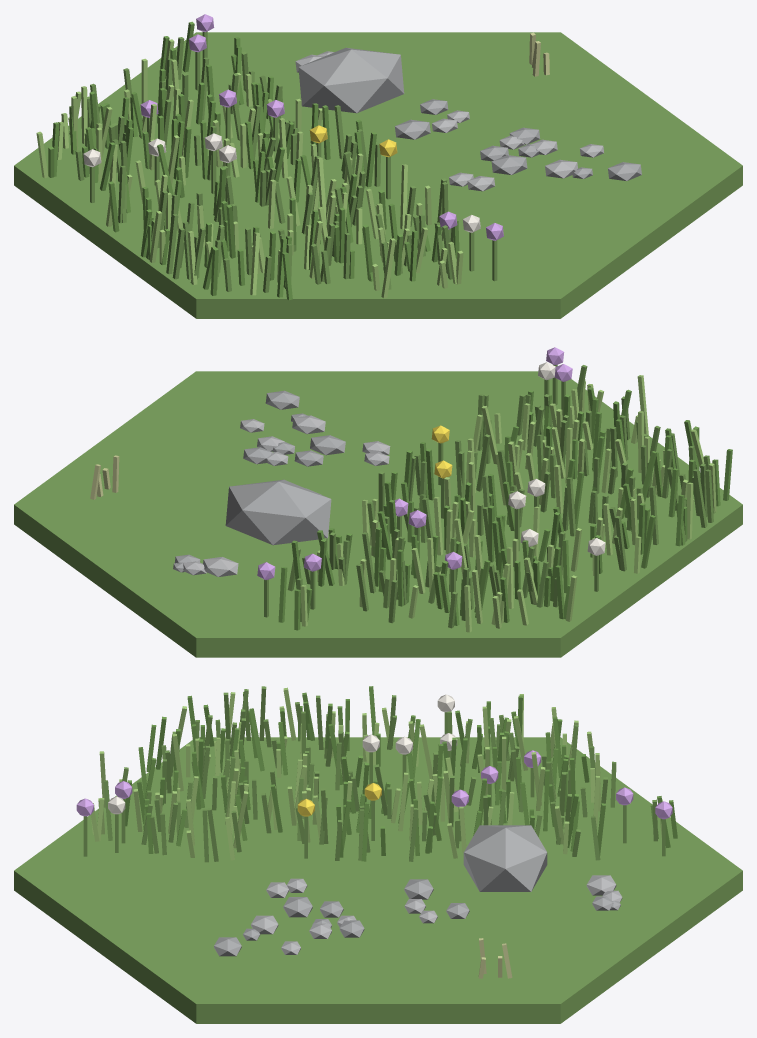
Rendered from grass_to_mountain.glb.
3 views of the same model, one above another, from view 1: azimuth 30°, elevation 25°; view 2: azimuth 150°, elevation 25°; view 3: azimuth 270°, elevation 25° (orthographic).
Parts seen in each view (by area): view 1: plate; view 2: plate; view 3: plate.
Boxes of the visible parts, x1,y1,x2,y2 form: plate: (14, 14, 742, 318); plate: (14, 347, 742, 657); plate: (14, 686, 742, 1023).
Bounding box in the file's own units: 1.73 × 0.2463 × 2.
